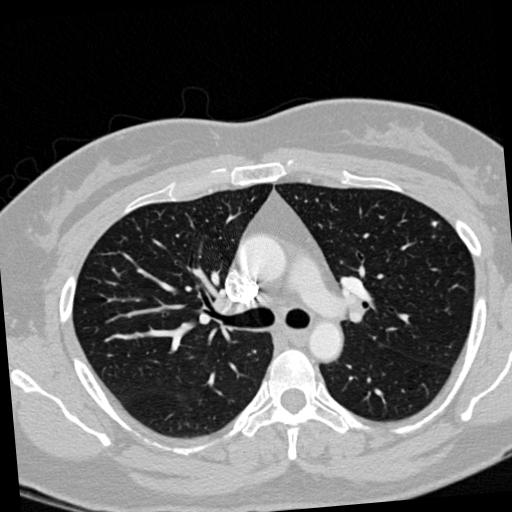nodule: (428, 217, 440, 229)
